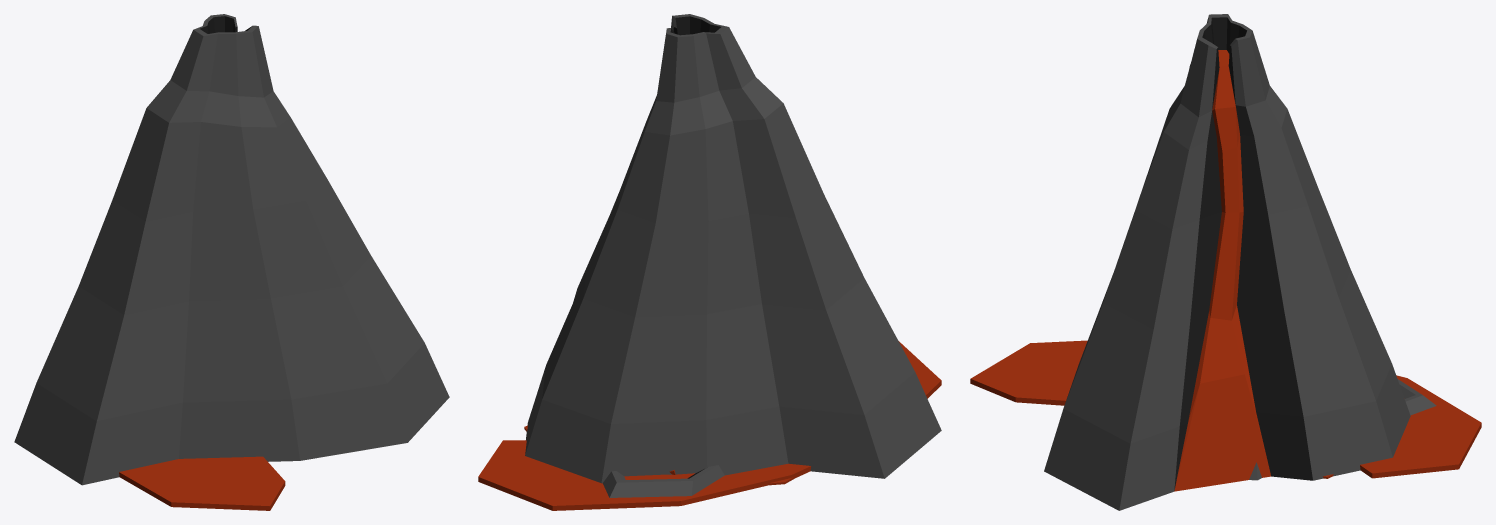
File: Lava_Assets_2.0.fbx
3 views of the same model, side by side, from view 1: azimuth 30°, elevation 25°; view 2: azimuth 150°, elevation 25°; view 3: azimuth 270°, elevation 25° (orthographic). The views are drawn at different scales.
Visible parts, largest first — view 1: Mini Volkano_3, Lava Pool_2; view 2: Mini Volkano_3, Lava Pool_2, Mini Volkano_2; view 3: Mini Volkano_3, Lava Pool_2, Mini Volkano_2.
Boxes of the visible parts, bbox=[...] form: Mini Volkano_3: bbox=[14, 14, 449, 485]; Lava Pool_2: bbox=[119, 456, 285, 510]; Mini Volkano_3: bbox=[525, 14, 941, 483]; Lava Pool_2: bbox=[478, 341, 941, 510]; Mini Volkano_2: bbox=[602, 465, 724, 497]; Mini Volkano_3: bbox=[1044, 14, 1410, 510]; Lava Pool_2: bbox=[970, 340, 1481, 478]; Mini Volkano_2: bbox=[1397, 379, 1436, 415].
Bounding box in the file's own units: 322 × 313 × 368.
